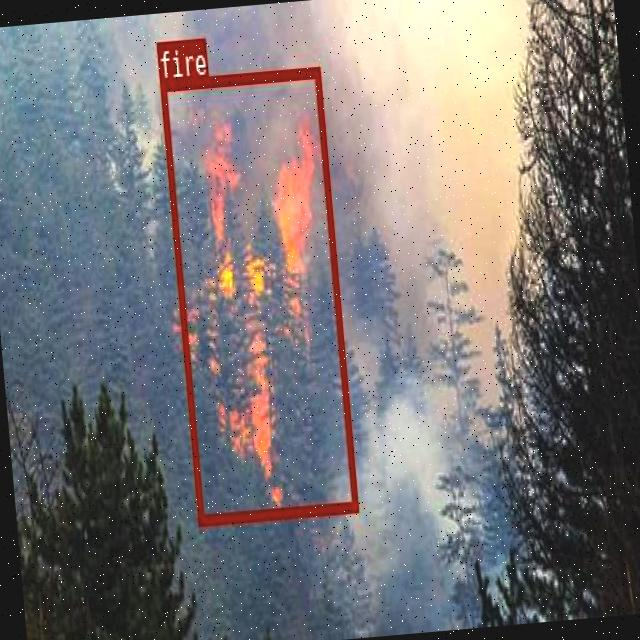fire: (158, 66, 358, 524)
